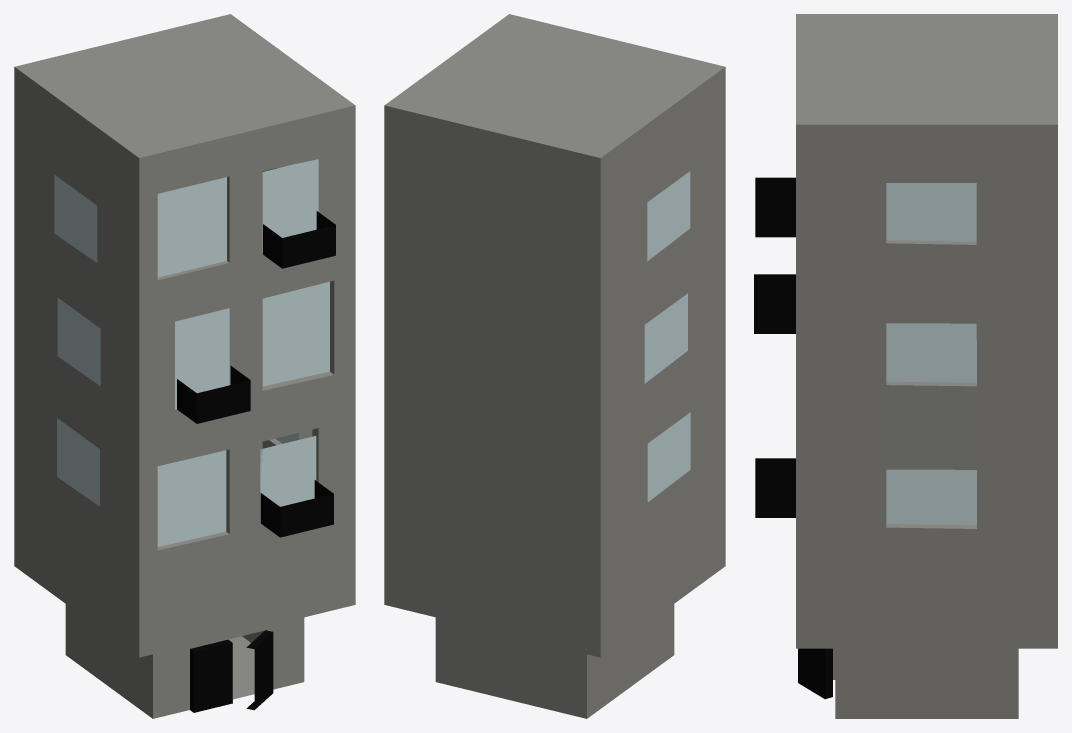
File: flatgrijs.fbx
3 views of the same model, side by side, from view 1: azimuth 30°, elevation 25°; view 2: azimuth 150°, elevation 25°; view 3: azimuth 270°, elevation 25° (orthographic). The views are drawn at different scales.
Parts seen in each view (by area): view 1: Cube, Cube.005, Cube.004, Cube.006, Cube.014, Cube.013, Cube.012, Cube.007, Cube.016, Cube.015, Cube.017, Cube.002 (+3 smaller); view 2: Cube, Cube.016, Cube.015, Cube.017; view 3: Cube, Cube.010, Cube.009, Cube.011, Cube.002, Cube.001, Cube.003, Cube.008.
Boxes of the visible parts, x1=… form: Cube: x1=14, y1=14, x2=355, y2=718; Cube.005: x1=262, y1=281, x2=329, y2=386; Cube.004: x1=157, y1=177, x2=226, y2=277; Cube.006: x1=157, y1=450, x2=226, y2=546; Cube.014: x1=175, y1=308, x2=229, y2=409; Cube.013: x1=262, y1=159, x2=318, y2=251; Cube.012: x1=260, y1=436, x2=316, y2=522; Cube.007: x1=190, y1=639, x2=232, y2=712; Cube.016: x1=57, y1=297, x2=100, y2=385; Cube.015: x1=54, y1=174, x2=97, y2=262; Cube.017: x1=57, y1=418, x2=99, y2=506; Cube.002: x1=177, y1=366, x2=250, y2=423; Cube: x1=384, y1=14, x2=725, y2=718; Cube.016: x1=644, y1=293, x2=687, y2=383; Cube.015: x1=647, y1=171, x2=690, y2=260; Cube.017: x1=647, y1=412, x2=690, y2=502; Cube: x1=796, y1=14, x2=1057, y2=718; Cube.010: x1=886, y1=323, x2=976, y2=382; Cube.009: x1=886, y1=183, x2=976, y2=241; Cube.011: x1=886, y1=469, x2=976, y2=525; Cube.002: x1=754, y1=274, x2=795, y2=333; Cube.001: x1=755, y1=177, x2=795, y2=237; Cube.003: x1=755, y1=458, x2=795, y2=517; Cube.008: x1=798, y1=648, x2=832, y2=699.
Bounding box in the file's own units: 541 × 1368 × 617.
